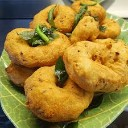vada: (18, 66, 95, 119), (67, 40, 128, 92), (6, 28, 68, 64), (74, 15, 122, 41), (31, 4, 75, 32)
